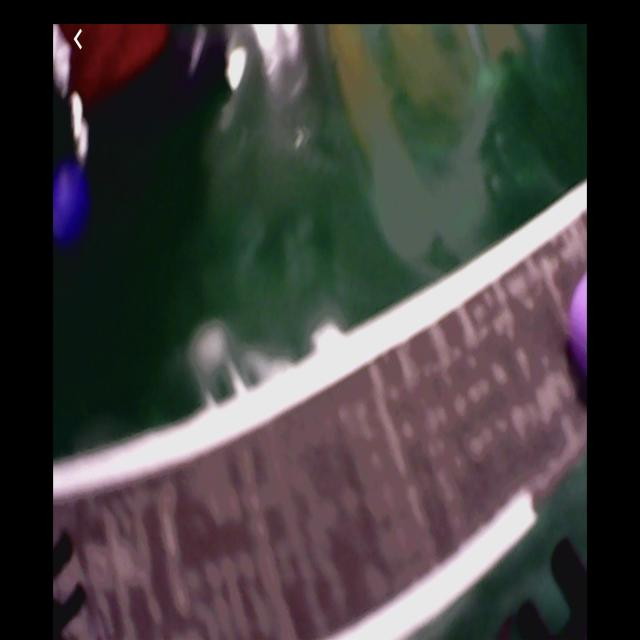ball: (53, 152, 89, 252), (569, 271, 587, 389)
